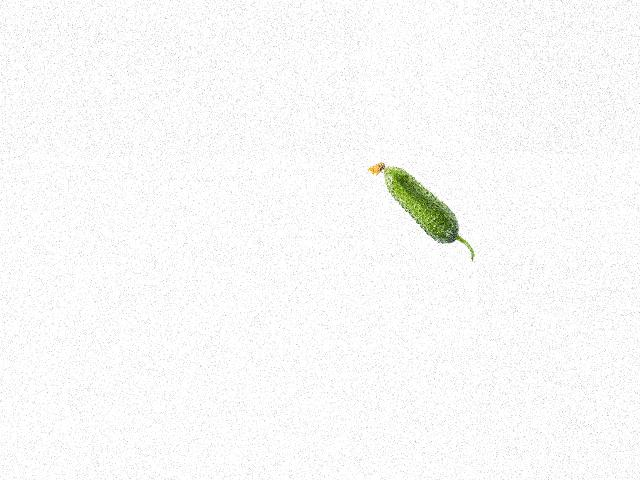cucumber: (367, 162, 473, 260)
